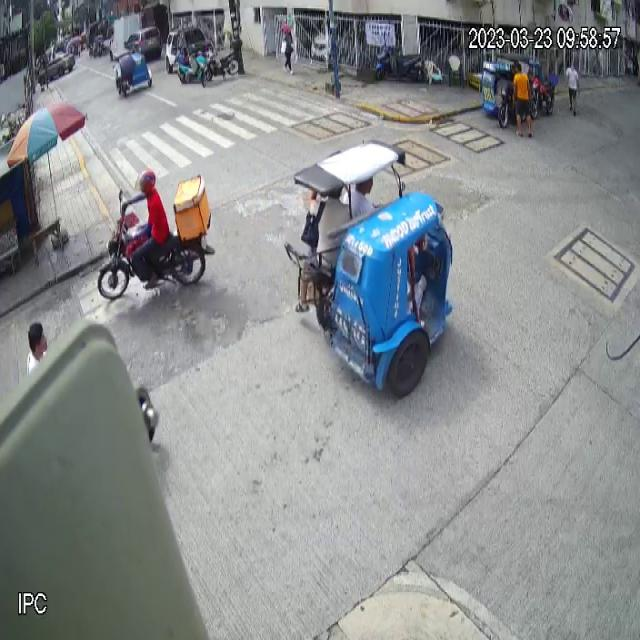Motorcycle: (98, 188, 216, 304)
Tricycle: (283, 135, 456, 399), (480, 52, 527, 129)
